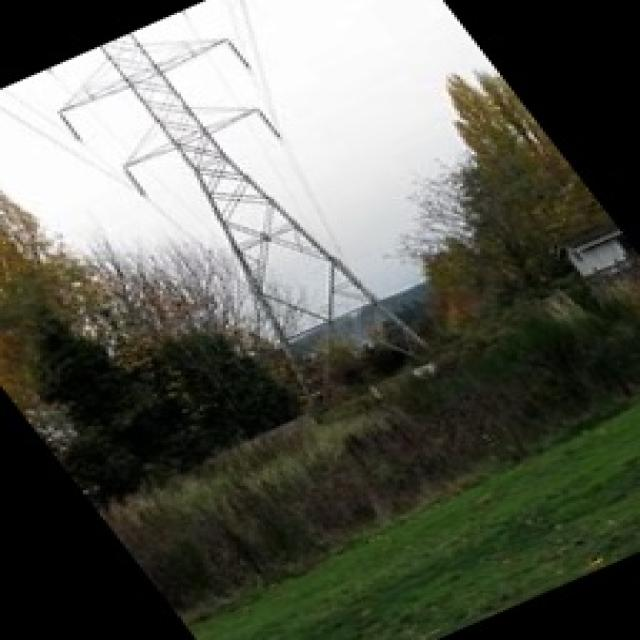utility poles: (157, 302, 332, 426), (342, 279, 544, 382)
